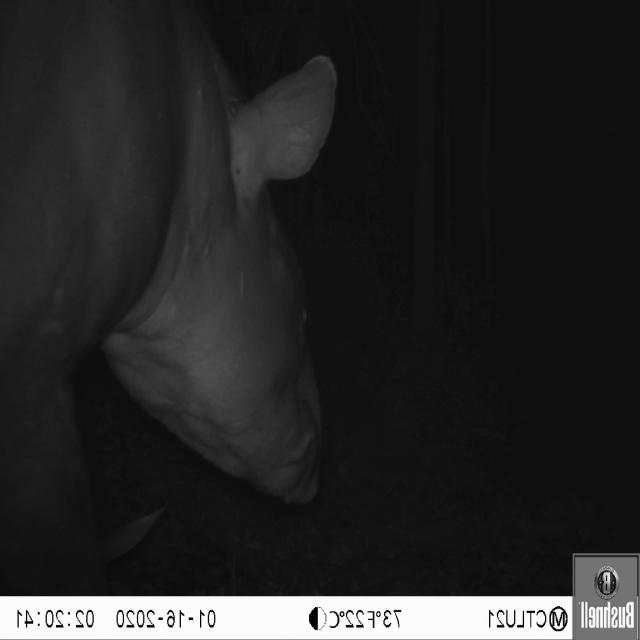Lowland Tapir: (3, 3, 343, 584)
